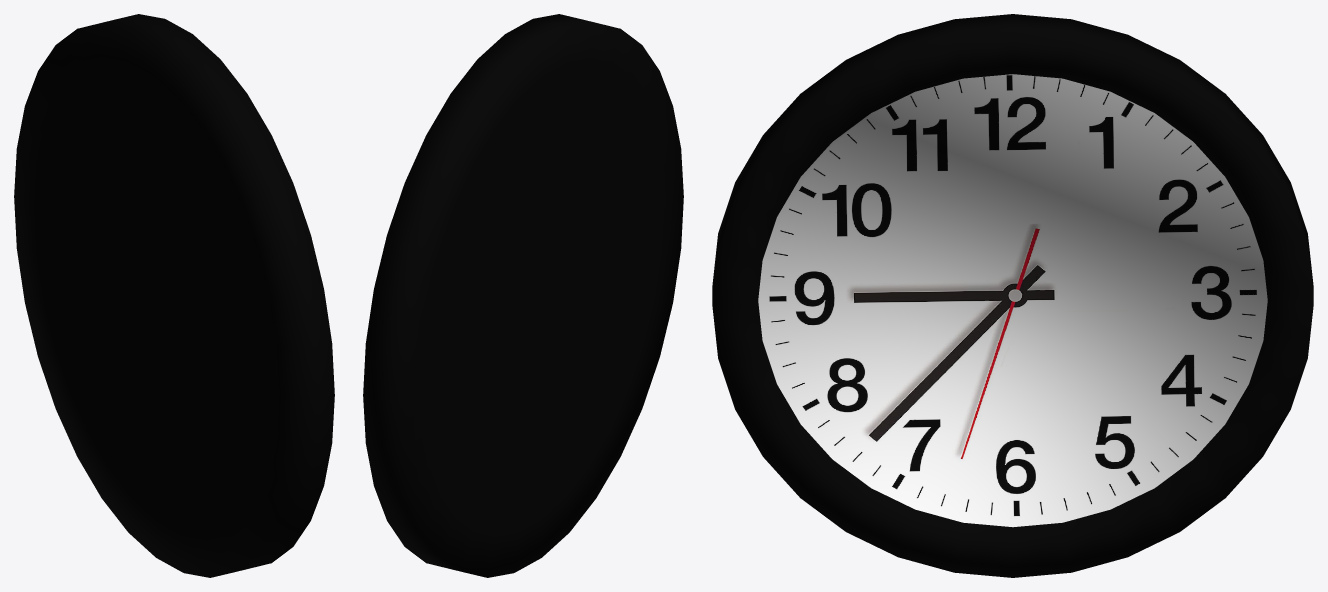
File: zegar.fbx
3 renders of one model, left to right at view 1: azimuth 30°, elevation 25°; view 2: azimuth 150°, elevation 25°; view 3: azimuth 270°, elevation 25°, orthographic. The views are drawn at different scales.
Visible parts, largest first — view 1: Zegar; view 2: Zegar; view 3: Zegar.
Boxes of the visible parts, x1,y1,x2,y2 form: Zegar: (14, 14, 334, 577); Zegar: (363, 14, 683, 577); Zegar: (712, 14, 1313, 577).
Bounding box in the file's own units: 15 × 200 × 200.
